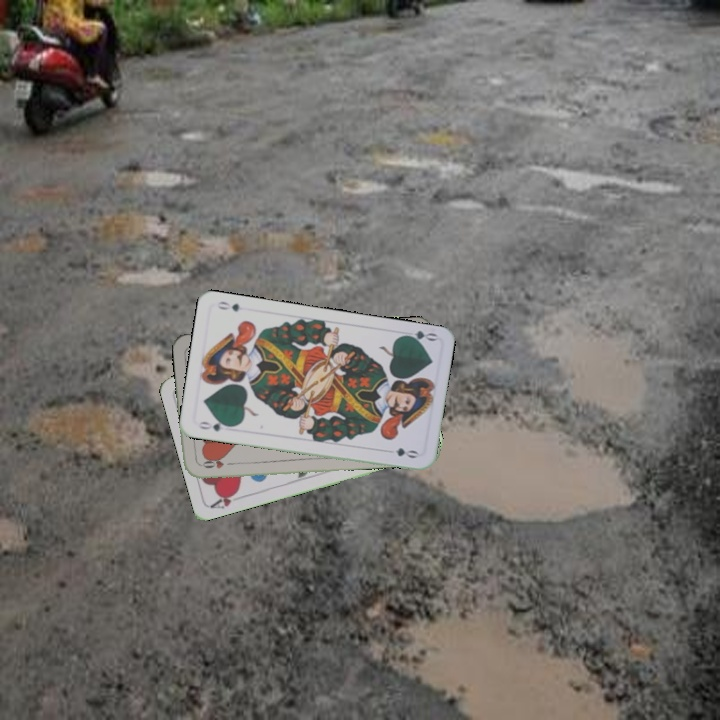GO: (398, 326, 439, 346), (194, 417, 234, 434)
HA: (207, 486, 247, 512)
HO: (196, 456, 236, 471)
